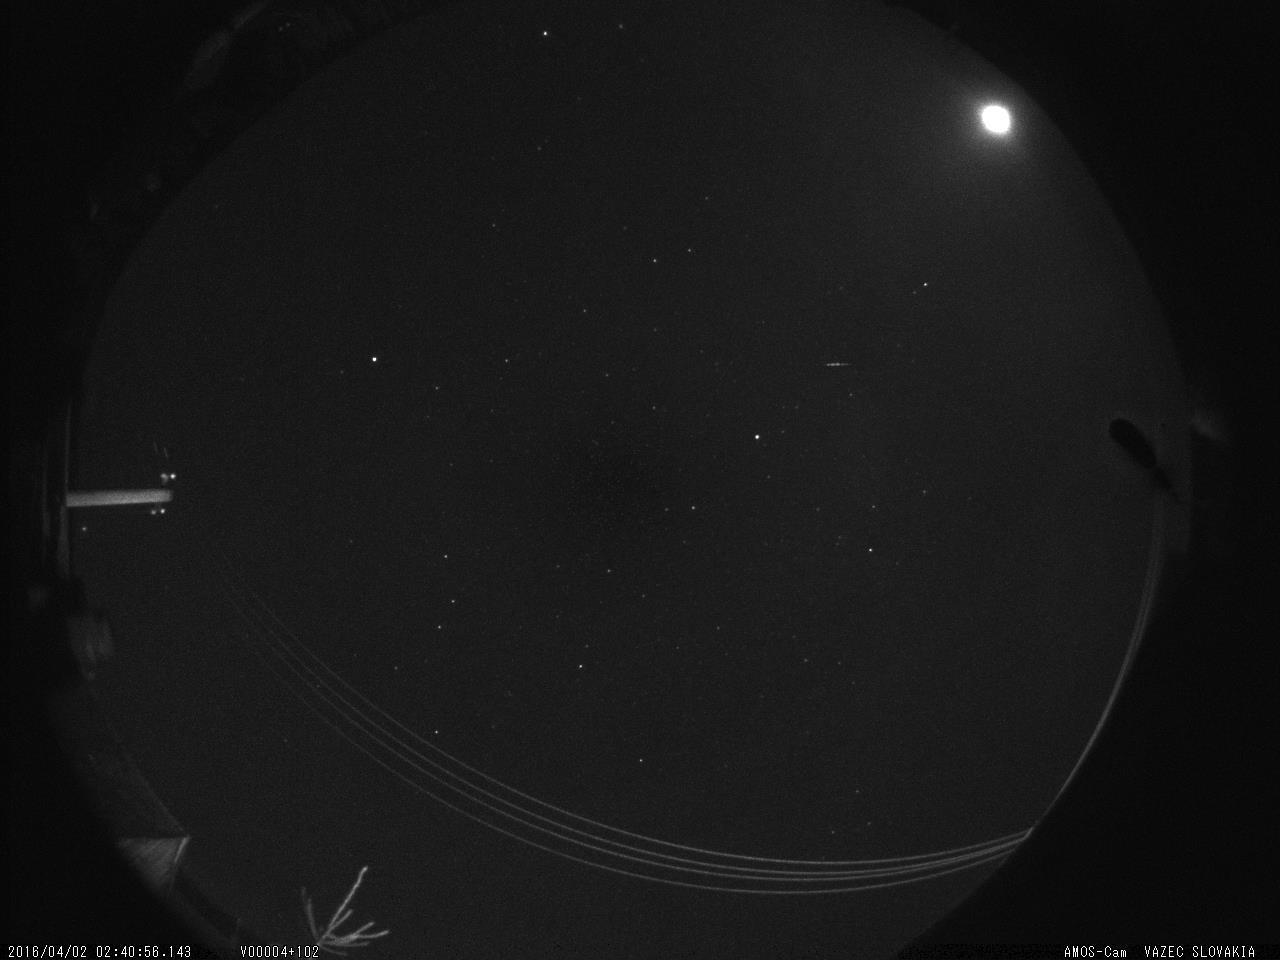Meteor: (820, 353, 854, 376)
